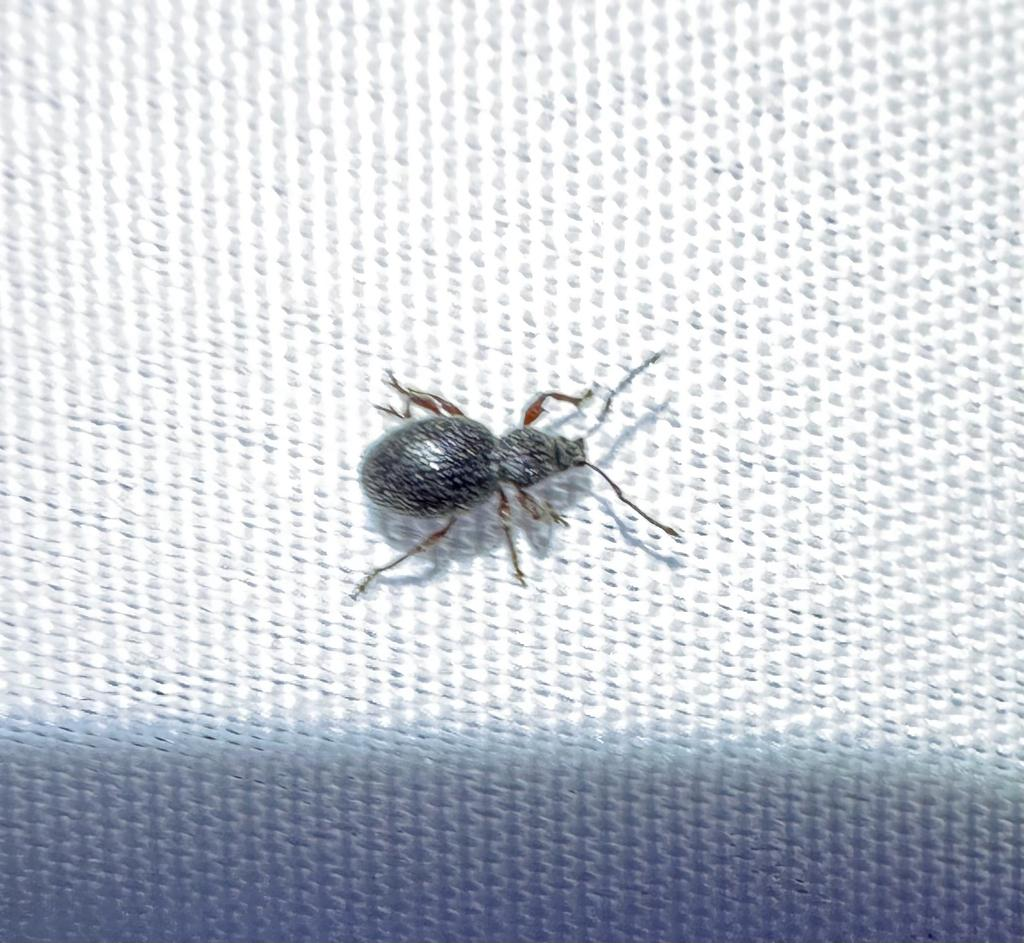weevils: (295, 286, 761, 650)
